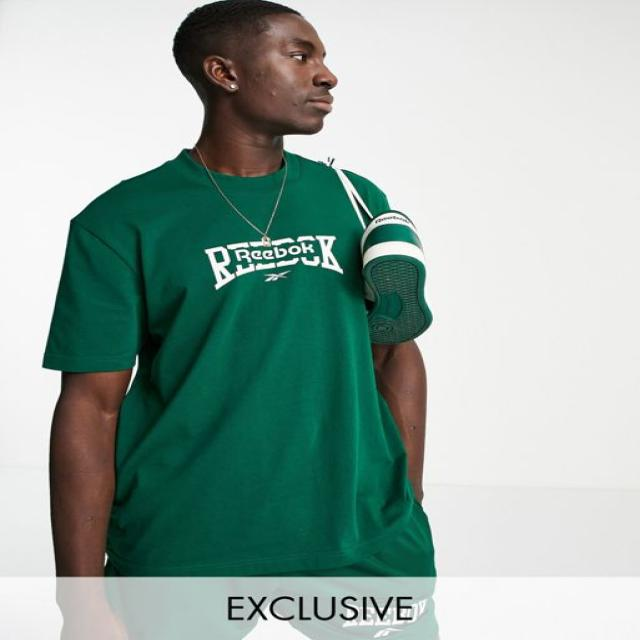tshirt: (41, 147, 439, 576)
